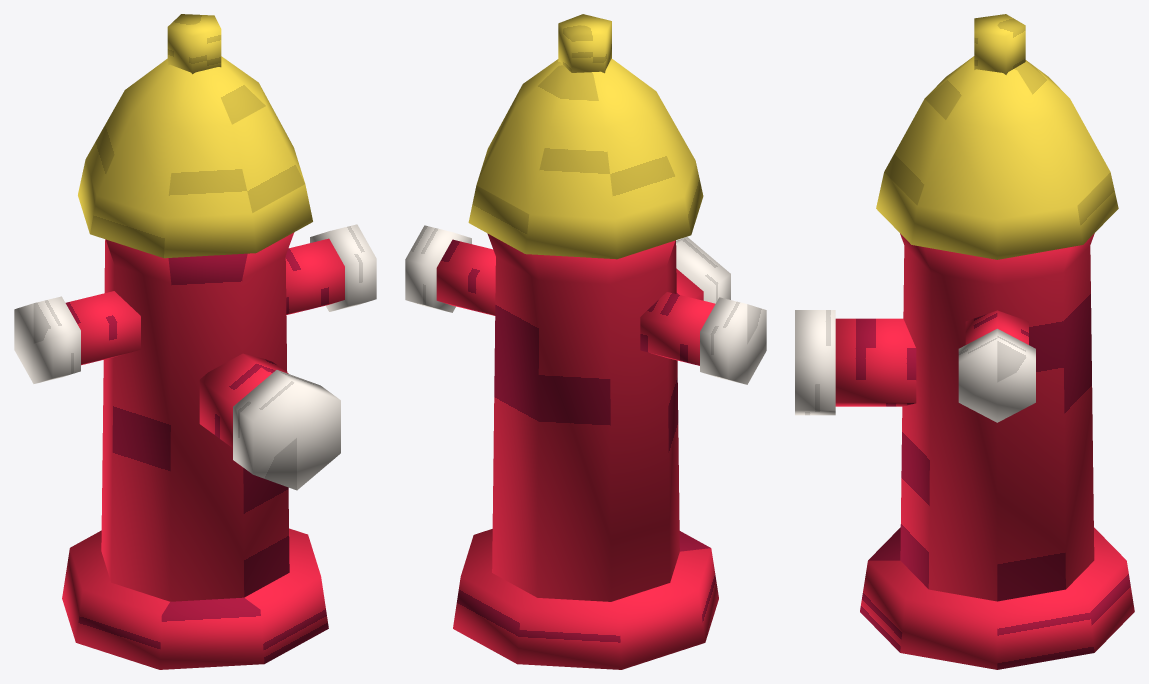
Rendered from Fire Hydrant.fbx.
3 views of the same model, side by side, from view 1: azimuth 30°, elevation 25°; view 2: azimuth 150°, elevation 25°; view 3: azimuth 270°, elevation 25° (orthographic).
Parts seen in each view (by area): view 1: Fire Hydrant barrel, Fire Hydrant bonnet, Fire Hydrant flange, Fire Hydrant pumper cap, Fire Hydrant nozzle cap -1, Fire Hydrant nozzle -1, Fire Hydrant pumper, Fire Hydrant nozzle 1, Fire Hydrant nozzle cap 1, Fire Hydrant nut; view 2: Fire Hydrant barrel, Fire Hydrant bonnet, Fire Hydrant flange, Fire Hydrant nozzle cap -1, Fire Hydrant nozzle -1, Fire Hydrant nozzle 1, Fire Hydrant nozzle cap 1, Fire Hydrant nut, Fire Hydrant pumper cap; view 3: Fire Hydrant barrel, Fire Hydrant bonnet, Fire Hydrant flange, Fire Hydrant pumper, Fire Hydrant nozzle cap 1, Fire Hydrant pumper cap, Fire Hydrant nut, Fire Hydrant nozzle 1.
Boxes of the visible parts, x1,y1,x2,y2 form: Fire Hydrant barrel: [101, 232, 294, 601]; Fire Hydrant bonnet: [78, 56, 312, 258]; Fire Hydrant flange: [62, 528, 328, 669]; Fire Hydrant pumper cap: [233, 370, 340, 490]; Fire Hydrant nozzle cap -1: [14, 296, 80, 383]; Fire Hydrant nozzle -1: [65, 291, 140, 365]; Fire Hydrant pumper: [199, 353, 288, 447]; Fire Hydrant nozzle 1: [285, 238, 344, 314]; Fire Hydrant nozzle cap 1: [310, 224, 376, 311]; Fire Hydrant nut: [167, 14, 221, 74]; Fire Hydrant barrel: [487, 233, 679, 601]; Fire Hydrant bonnet: [468, 58, 703, 259]; Fire Hydrant flange: [453, 529, 718, 669]; Fire Hydrant nozzle cap -1: [700, 297, 766, 384]; Fire Hydrant nozzle -1: [640, 292, 715, 365]; Fire Hydrant nozzle 1: [436, 239, 495, 315]; Fire Hydrant nozzle cap 1: [405, 225, 471, 312]; Fire Hydrant nut: [558, 14, 611, 73]; Fire Hydrant pumper cap: [676, 237, 730, 303]; Fire Hydrant barrel: [900, 233, 1094, 601]; Fire Hydrant bonnet: [876, 56, 1118, 259]; Fire Hydrant flange: [860, 527, 1134, 669]; Fire Hydrant pumper: [835, 318, 916, 406]; Fire Hydrant nozzle cap 1: [958, 328, 1035, 422]; Fire Hydrant pumper cap: [795, 310, 835, 415]; Fire Hydrant nut: [974, 14, 1025, 74]; Fire Hydrant nozzle 1: [965, 310, 1028, 344].
Size of the model in its own units: 0.46 by 0.8 by 0.42.
Materials: 3 (3 with a texture image).
